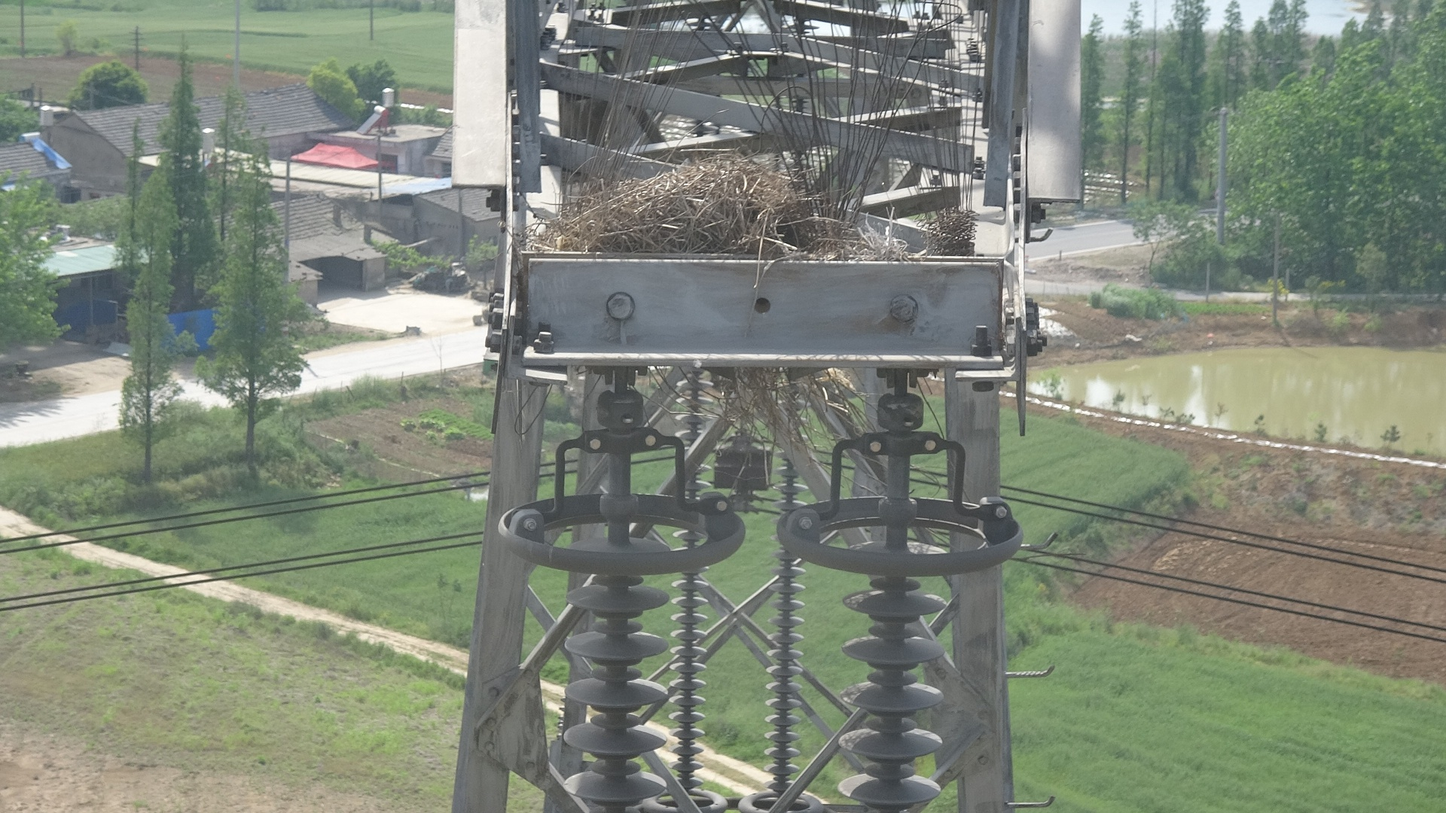insulator: (556, 580, 677, 813), (831, 589, 952, 813), (758, 565, 810, 781), (667, 574, 715, 787), (673, 373, 719, 443), (768, 446, 811, 515)
